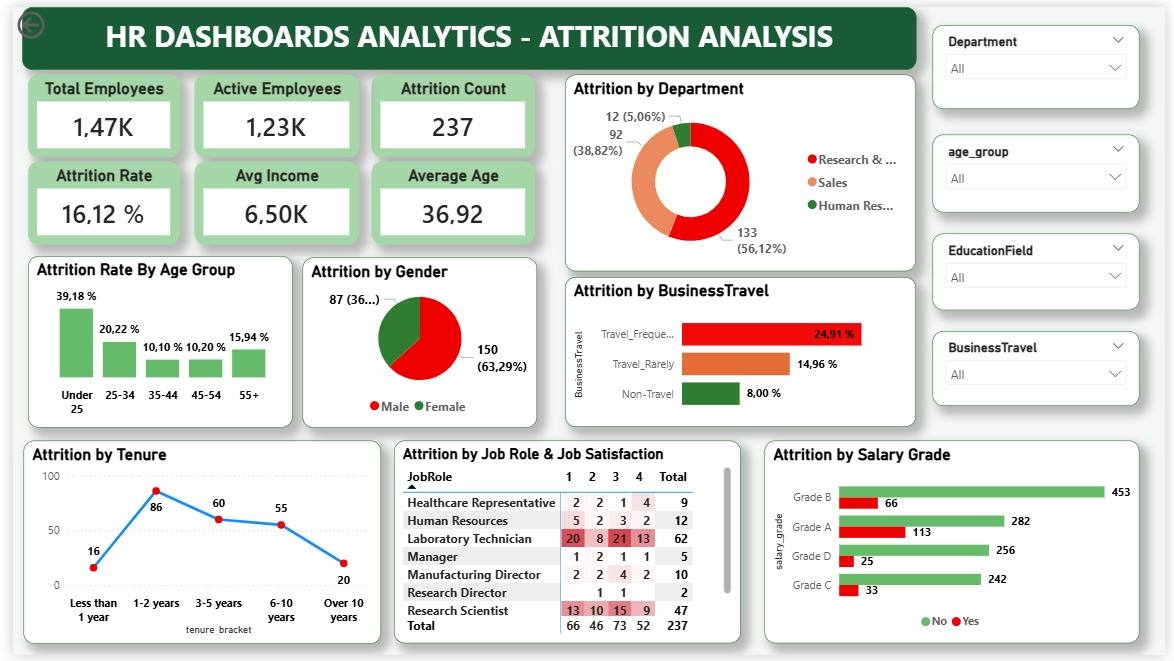

Layout of this report page (visuals, bound fields, positions):
{"tool":"powerbi","page":{"name":"Page 1","canvas":[1280,720],"ordinal":0},"visuals":[{"type":"textbox","box":[9.5,0,994.1,70],"z":0},{"type":"cardVisual","title":"Total Employees","fields":{"Data":["HR_Data.Total Employees"]},"box":[15.9,74.8,168.6,92.3],"z":1000},{"type":"cardVisual","title":"Attrition Count","fields":{"Data":["HR_Data.Total Exits"]},"box":[397.7,74.8,181.3,92.3],"z":2000},{"type":"cardVisual","title":"Attrition Rate ","fields":{"Data":["HR_Data.Attrition Rate"]},"box":[15.9,171.8,168.6,92.3],"z":3000},{"type":"cardVisual","title":"Active Employees","fields":{"Data":["HR_Data.Total Employees"]},"box":[202,74.8,182.9,92.3],"z":6000},{"type":"cardVisual","title":"Avg  Income","fields":{"Data":["HR_Data.Avg Monthly Income"]},"box":[202,171.8,182.9,92.3],"z":6500},{"type":"donutChart","title":" Attrition by Department","fields":{"Category":["HR_Data.Department"],"Y":["HR_Data.Total Exits"]},"box":[613.3,75,390,218.3],"z":7000},{"type":"lineChart","title":"Attrition by Tenure ","fields":{"Category":["HR_Data.tenure_bracket"],"Y":["HR_Data.Total Exits"]},"box":[11.1,482,397.7,225.9],"z":8000},{"type":"cardVisual","title":"Average Age","fields":{"Data":["Avg(HR_Data.Age)"]},"box":[397.7,171.8,181.3,92.3],"z":8500},{"type":"clusteredColumnChart","title":"Attrition Rate By Age Group ","fields":{"Category":["HR_Data.age_group"],"Y":["HR_Data.Attrition Rate"]},"box":[15.9,276.8,294.3,190.9],"z":9000},{"type":"clusteredBarChart","title":"Attrition by Salary Grade","fields":{"Category":["HR_Data.salary_grade"],"Y":["HR_Data.Total Employees"],"Series":["HR_Data.Attrition"]},"box":[835,481.7,416.7,225],"z":10000},{"type":"pivotTable","title":"Attrition by Job Role & Job Satisfaction","fields":{"Columns":["HR_Data.JobSatisfaction"],"Rows":["HR_Data.JobRole"],"Values":["CountNonNull(HR_Data.Attrition)"]},"box":[423.3,481.7,385,225],"z":11000},{"type":"actionButton","box":[0,0,100,40],"z":12000},{"type":"pieChart","title":" Attrition by Gender","fields":{"Category":["HR_Data.Gender"],"Y":["HR_Data.Total Exits"]},"box":[321.3,278.4,260.9,189.3],"z":13000},{"type":"slicer","fields":{"Values":["HR_Data.Department"]},"box":[1021.7,20,230,93.3],"z":14000},{"type":"clusteredBarChart","title":"Attrition by BusinessTravel","fields":{"Category":["HR_Data.BusinessTravel"],"Y":["HR_Data.Attrition Rate"]},"box":[613.3,300,390,166.7],"z":15000},{"type":"slicer","fields":{"Values":["HR_Data.age_group"]},"box":[1021.7,141.7,230,86.7],"z":16000},{"type":"slicer","fields":{"Values":["HR_Data.EducationField"]},"box":[1021.7,251.7,230,85],"z":17000},{"type":"slicer","fields":{"Values":["HR_Data.BusinessTravel"]},"box":[1021.7,360,230,83.3],"z":18000}]}

Visuals, with their boxes in screenshot pixels (x1, y1, x2, y2), scaled from the page's 1280x720 canvas onto the 1174x661 screenshot:
textbox: (left=9, top=0, right=920, bottom=64)
"Total Employees" cardVisual: (left=15, top=69, right=169, bottom=153)
"Attrition Count" cardVisual: (left=365, top=69, right=531, bottom=153)
"Attrition Rate " cardVisual: (left=15, top=158, right=169, bottom=242)
"Active Employees" cardVisual: (left=185, top=69, right=353, bottom=153)
"Avg  Income" cardVisual: (left=185, top=158, right=353, bottom=242)
" Attrition by Department" donutChart: (left=563, top=69, right=920, bottom=269)
"Attrition by Tenure " lineChart: (left=10, top=443, right=375, bottom=650)
"Average Age" cardVisual: (left=365, top=158, right=531, bottom=242)
"Attrition Rate By Age Group " clusteredColumnChart: (left=15, top=254, right=285, bottom=429)
"Attrition by Salary Grade" clusteredBarChart: (left=766, top=442, right=1148, bottom=649)
"Attrition by Job Role & Job Satisfaction" pivotTable: (left=388, top=442, right=741, bottom=649)
actionButton: (left=0, top=0, right=92, bottom=37)
" Attrition by Gender" pieChart: (left=295, top=256, right=534, bottom=429)
slicer - HR_Data.Department: (left=937, top=18, right=1148, bottom=104)
"Attrition by BusinessTravel" clusteredBarChart: (left=563, top=275, right=920, bottom=428)
slicer - HR_Data.age_group: (left=937, top=130, right=1148, bottom=210)
slicer - HR_Data.EducationField: (left=937, top=231, right=1148, bottom=309)
slicer - HR_Data.BusinessTravel: (left=937, top=330, right=1148, bottom=407)
